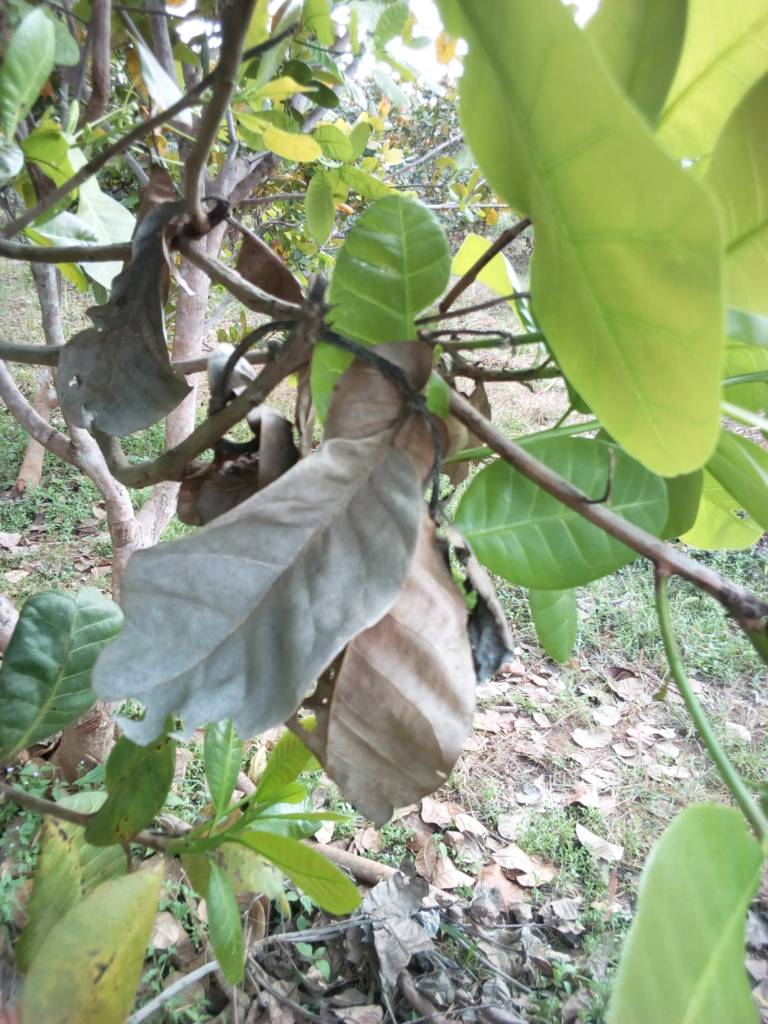Dessèchement des bourgeons: (308, 455, 508, 816), (288, 278, 452, 516), (61, 192, 194, 441)
